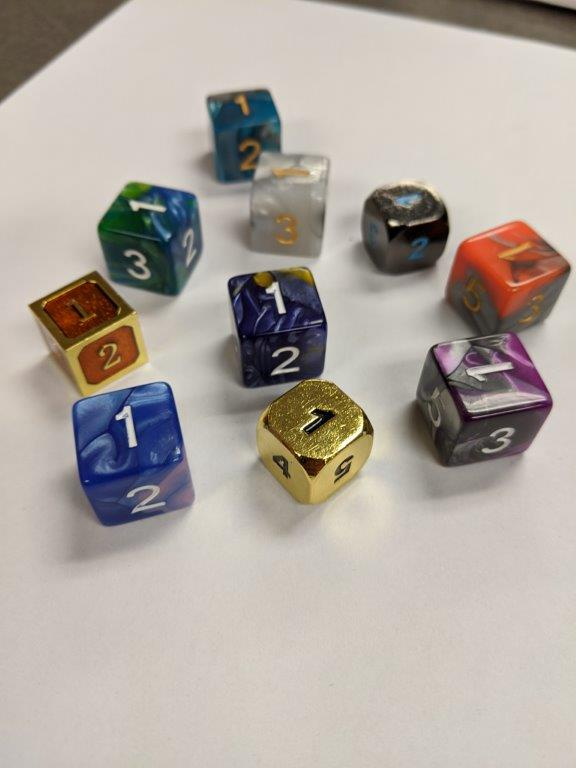d6-1: (415, 331, 550, 468), (74, 381, 197, 530), (27, 268, 154, 398), (448, 217, 572, 342), (256, 378, 376, 507), (228, 263, 330, 386), (102, 182, 205, 294), (248, 149, 332, 258), (363, 178, 452, 277), (206, 86, 279, 183)
